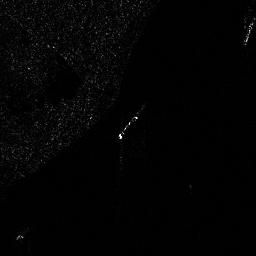ship: (118, 112, 139, 139), (244, 17, 254, 46)
